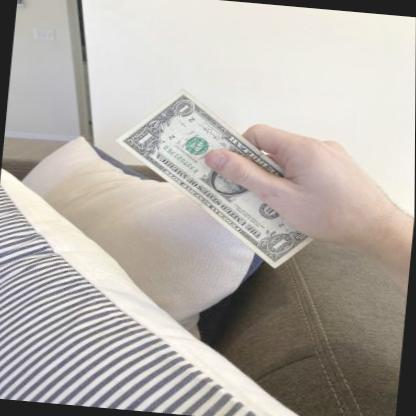dollar_front: (114, 88, 345, 270)
